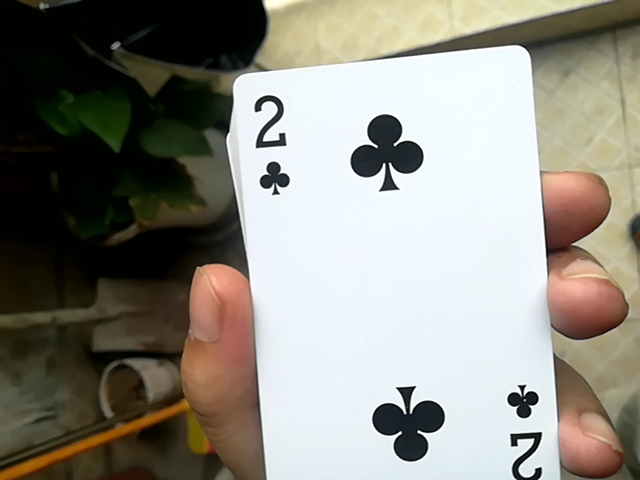mh 2: (214, 41, 546, 480)
